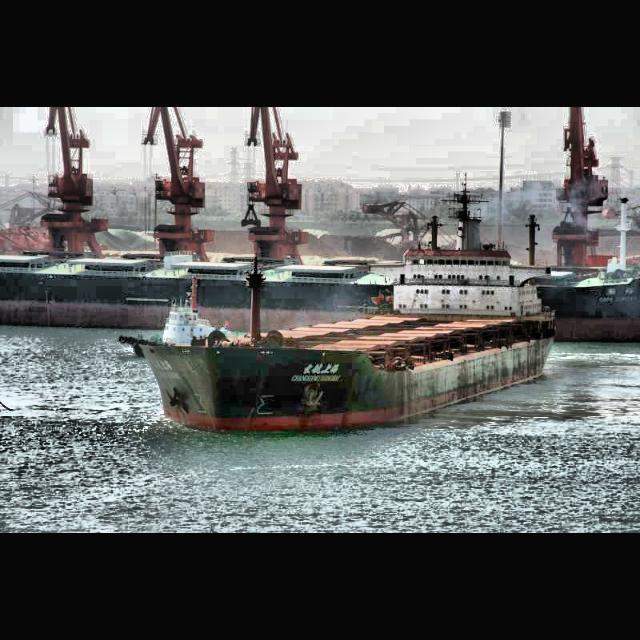bulk_carrier: (0, 108, 640, 346), (138, 190, 560, 440)
